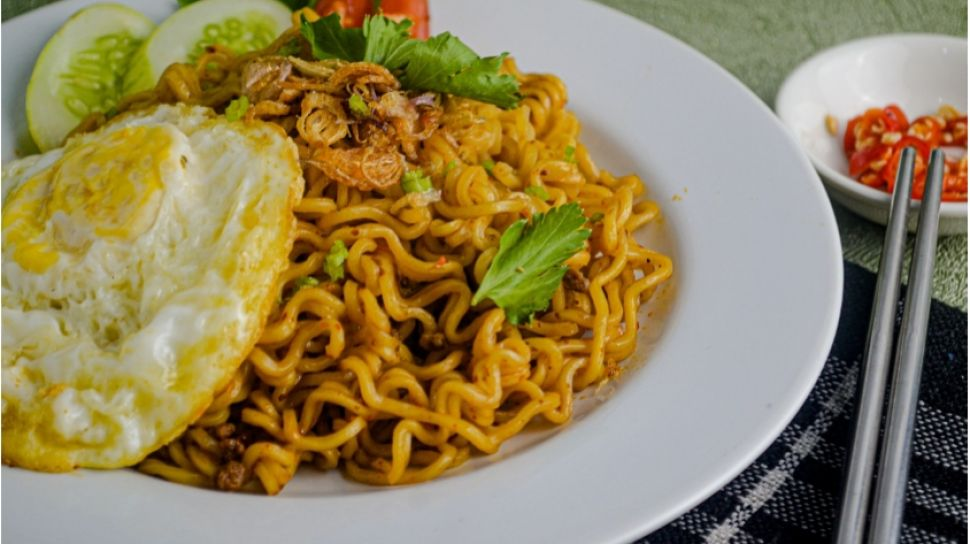Mie: (192, 13, 735, 502)
Telur: (1, 85, 311, 474)
